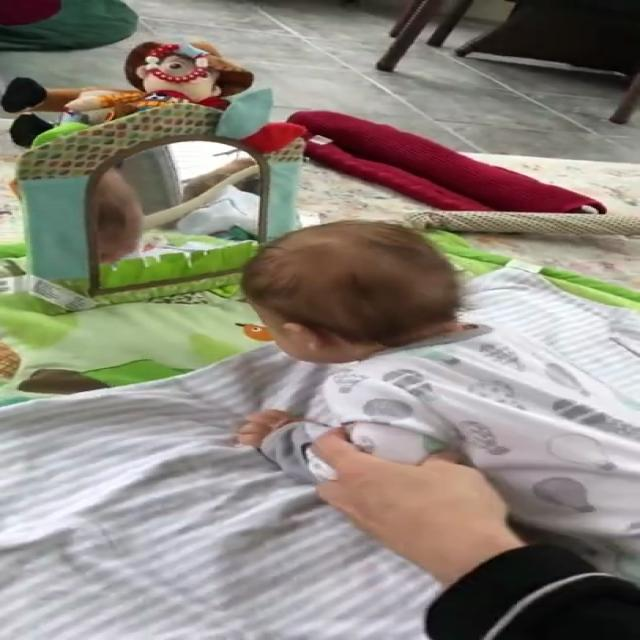baby: (233, 220, 640, 590)
